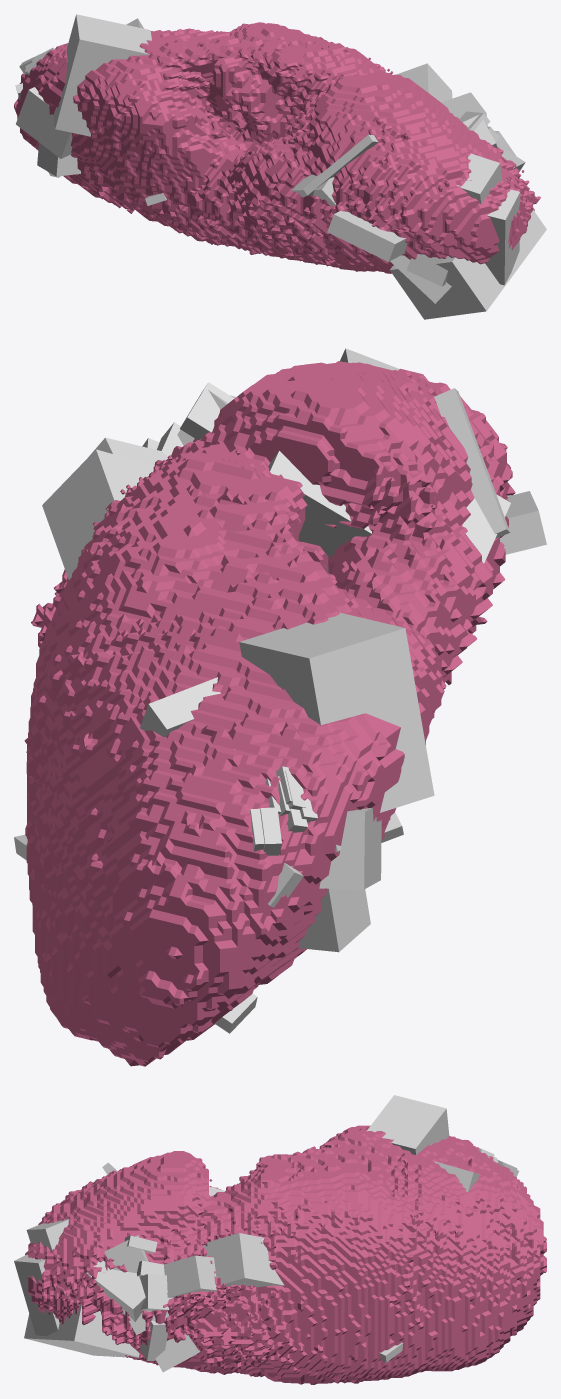
Rendered from non_hra_mapping.glb.
3 views of the same model, one above another, from view 1: azimuth 30°, elevation 25°; view 2: azimuth 150°, elevation 25°; view 3: azimuth 270°, elevation 25° (orthographic). The views are drawn at different scales.
Parts seen in each view (by area): view 1: world; view 2: world; view 3: world.
Boxes of the visible parts, bbox=[...] form: world: bbox=[14, 14, 546, 319]; world: bbox=[14, 348, 546, 1066]; world: bbox=[14, 1095, 546, 1384].
Size of the model in its own units: 85.75 by 59.88 by 136.
